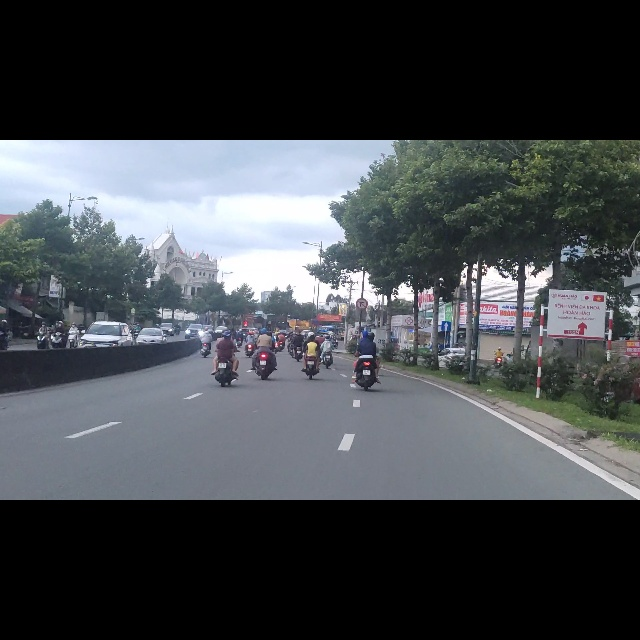bien_cam: (356, 281, 368, 302), (441, 321, 451, 340)
